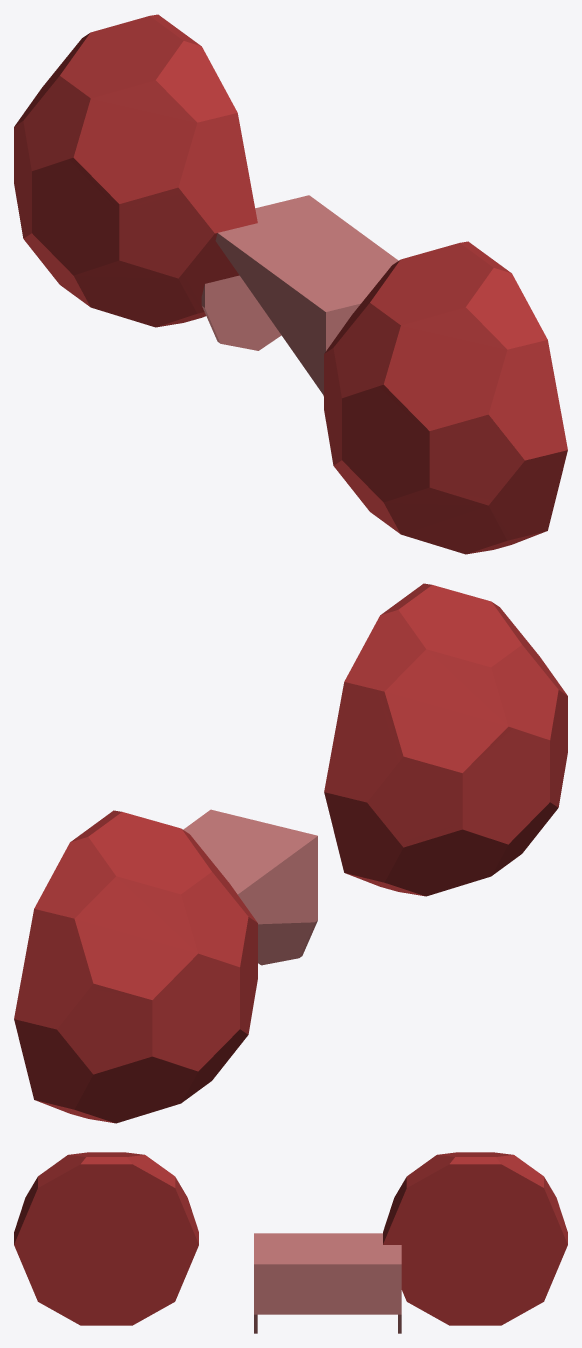
Rendered from _head-auricle.glb.
3 views of the same model, one above another, from view 1: azimuth 30°, elevation 25°; view 2: azimuth 150°, elevation 25°; view 3: azimuth 270°, elevation 25° (orthographic). The views are drawn at different scales.
Bounding box in the file's own units: 0.0401 × 0.0502 × 0.1502.
